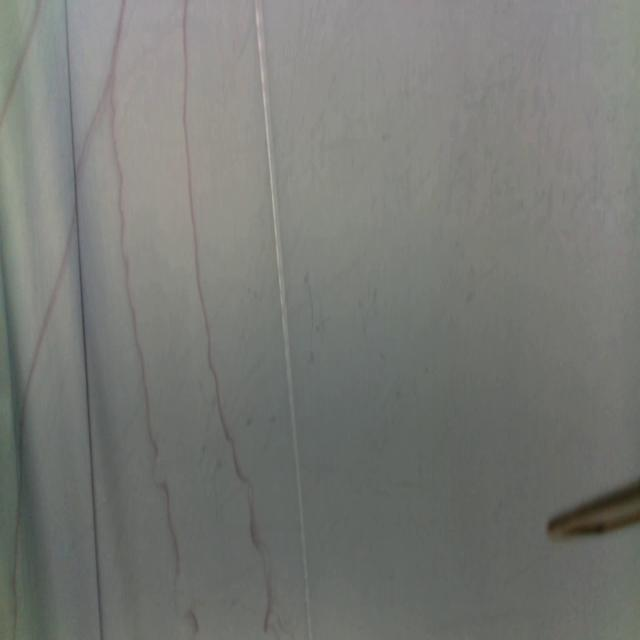crease: (253, 0, 312, 640), (64, 0, 104, 640)
